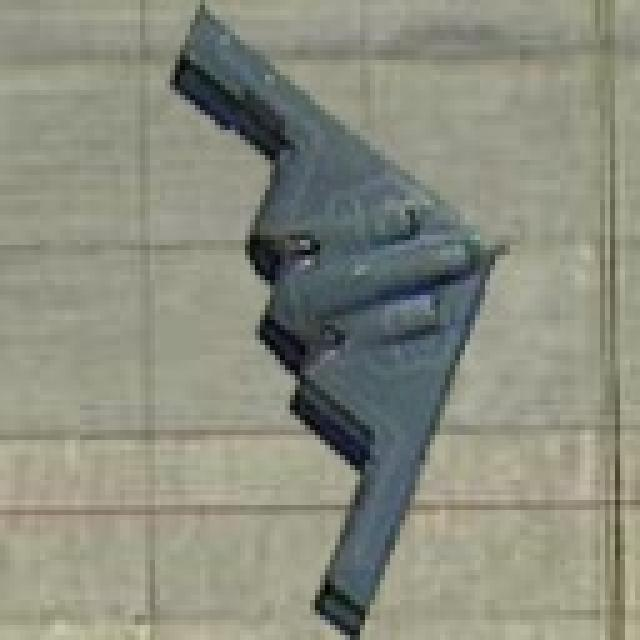B-2_TopDown: (160, 0, 510, 635)
